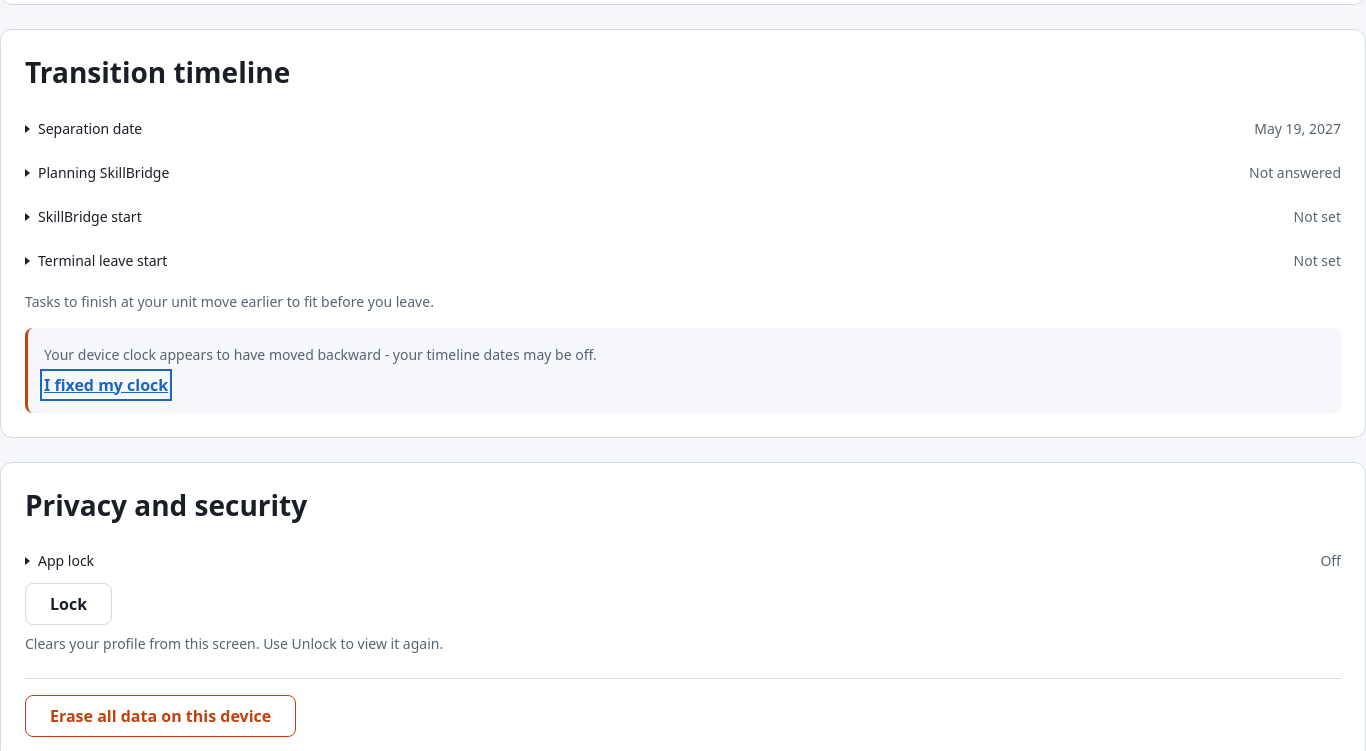
Test case: Settings, the clock fix › keeps focus on the button, with the line, when the fix fails
(page scrolled)
Click the button "I fixed my clock" at (106, 385), box x1=44 y1=373 x2=168 y2=397
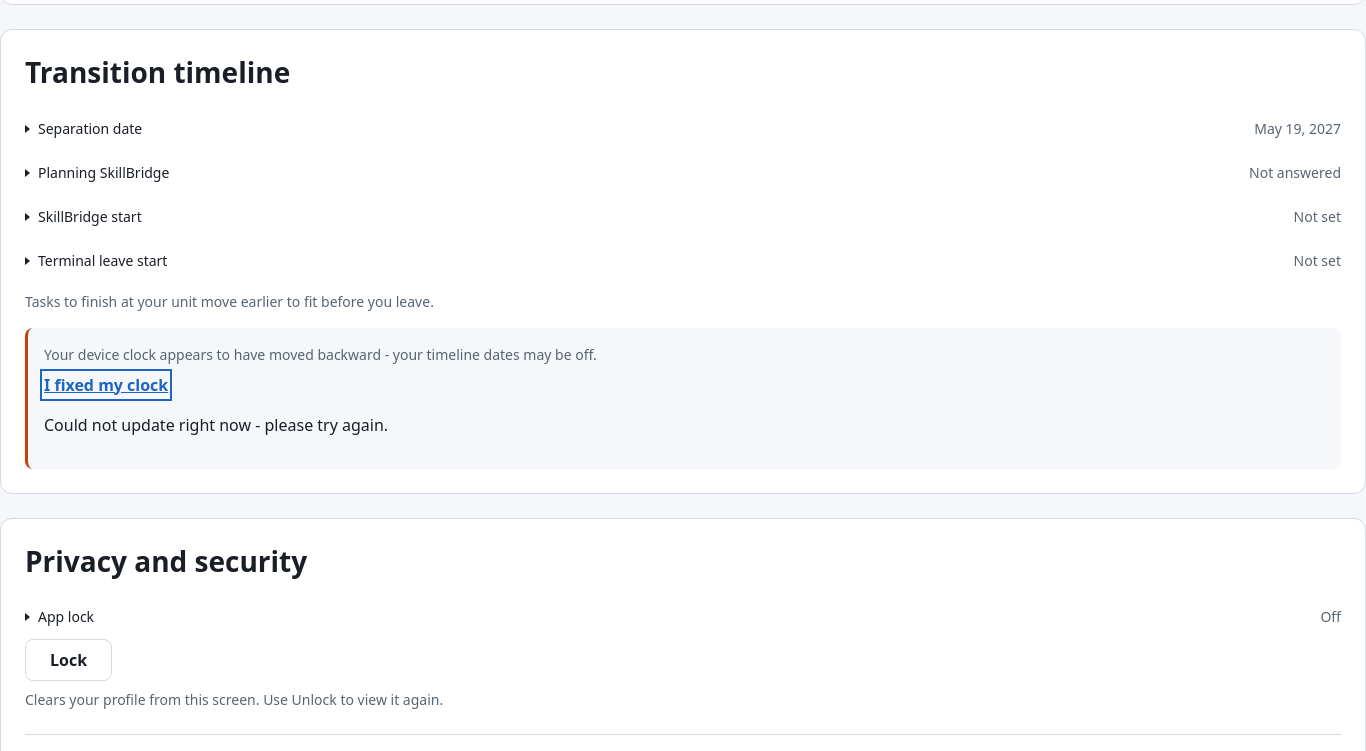
Result: the message reads "Could not update right now - please try again." at x1=44 y1=414 x2=388 y2=436
